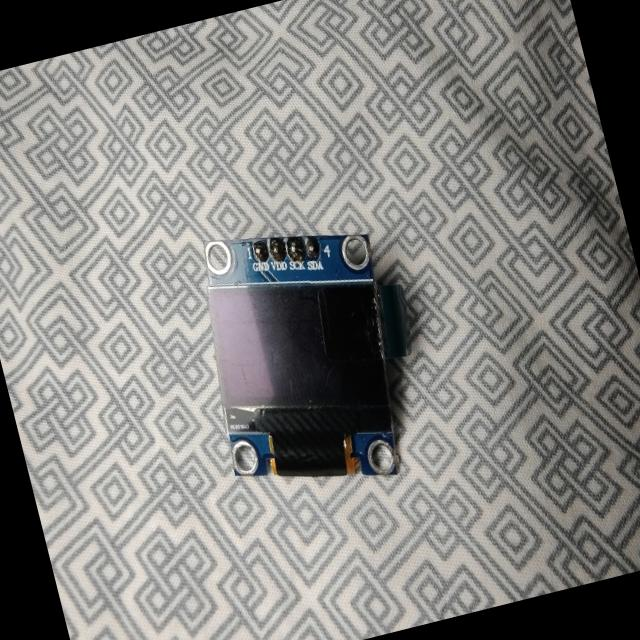oled: (174, 187, 453, 535)
